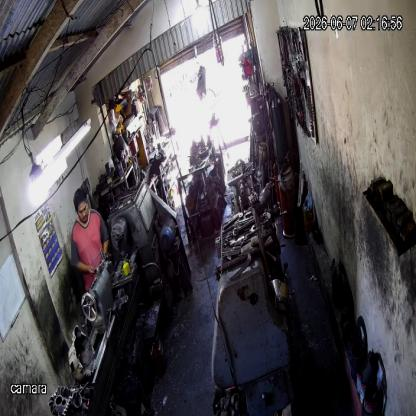sin_lentes: (78, 205, 89, 213)
